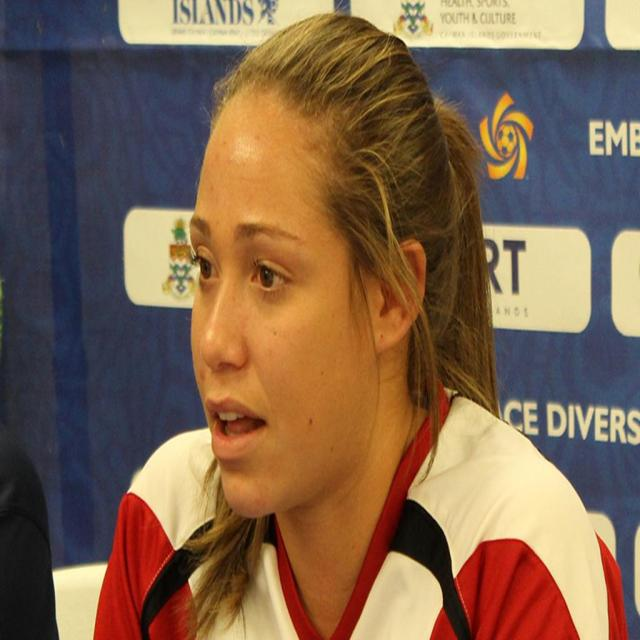Face: (185, 79, 402, 524)
